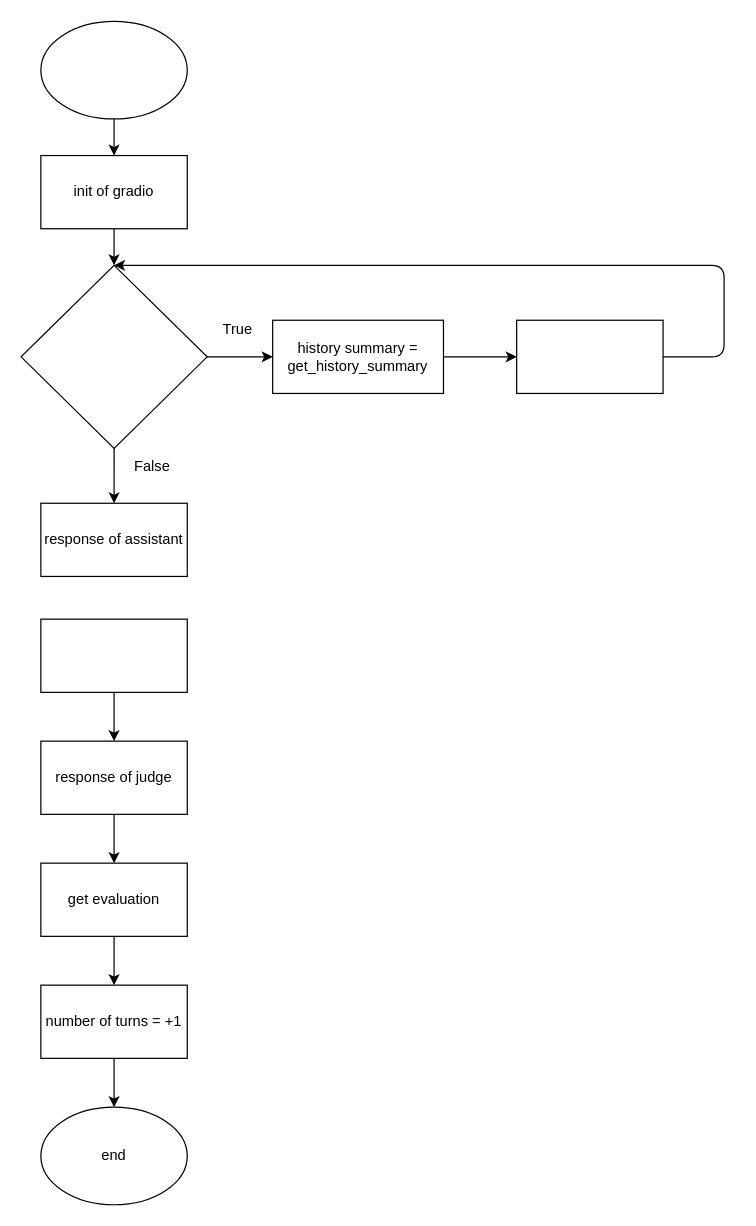
This 756x1226 diagram has some shape labels left out. Each missing label, with the centre of its shape:
"number turns > limit history turn" goes at point (113, 356).
"reset at 1 number of turns" goes at point (589, 356).
"reset of summary history" goes at point (113, 655).
"start" goes at point (113, 69).
